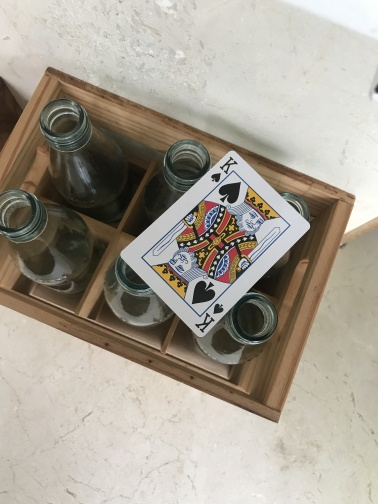king: (119, 148, 312, 339)
